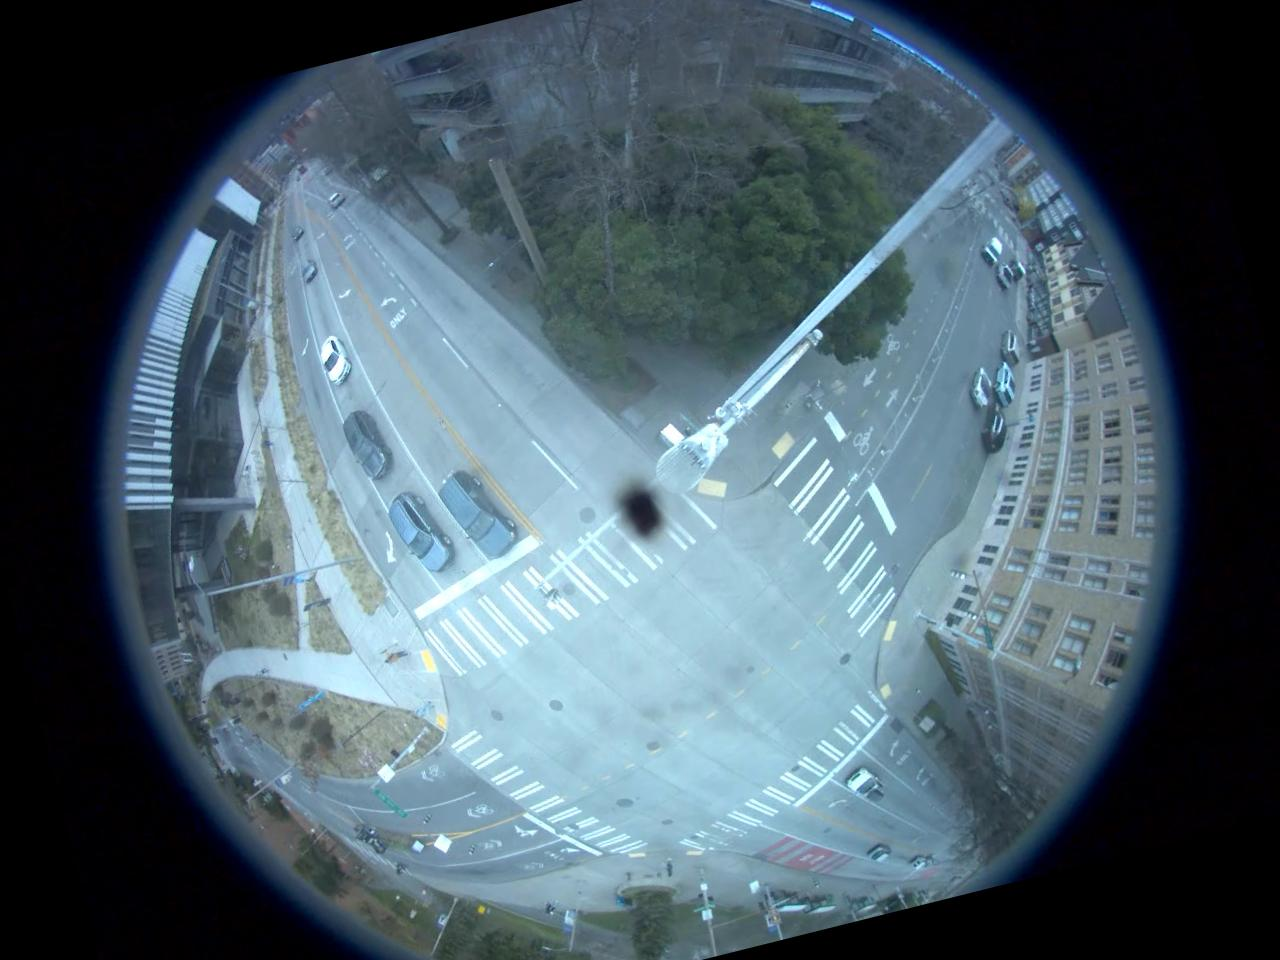car: (432, 460, 524, 572), (379, 481, 460, 584), (334, 401, 396, 488), (310, 328, 355, 390), (843, 762, 890, 806), (962, 362, 998, 412), (990, 361, 1025, 412), (977, 403, 1012, 454), (994, 325, 1028, 370), (294, 252, 322, 286), (978, 235, 1008, 263), (992, 262, 1018, 294), (864, 842, 894, 868)
person: (408, 696, 440, 723), (382, 648, 412, 672), (659, 850, 680, 881)
